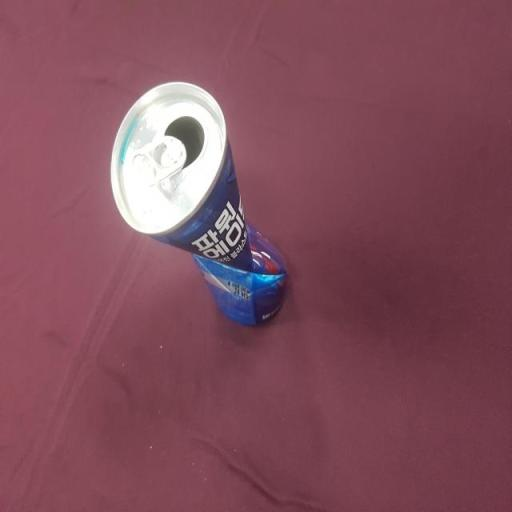metal: (96, 78, 305, 362)
